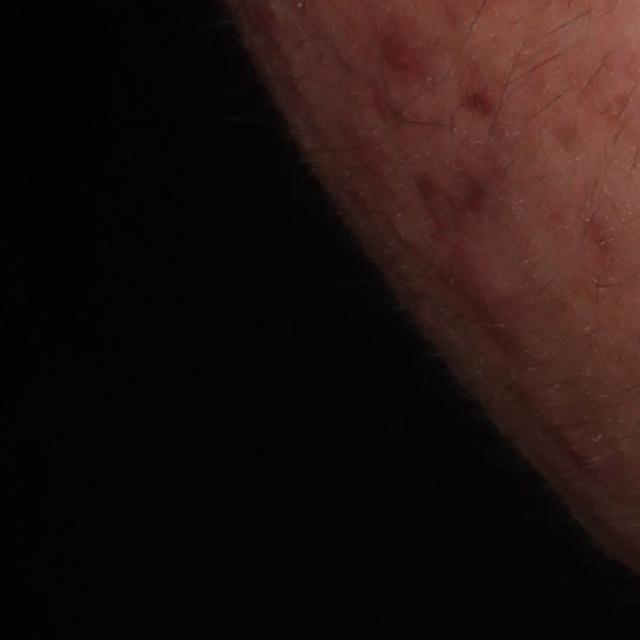atrophic_scar: (459, 90, 491, 120)
papule: (460, 247, 526, 358)
